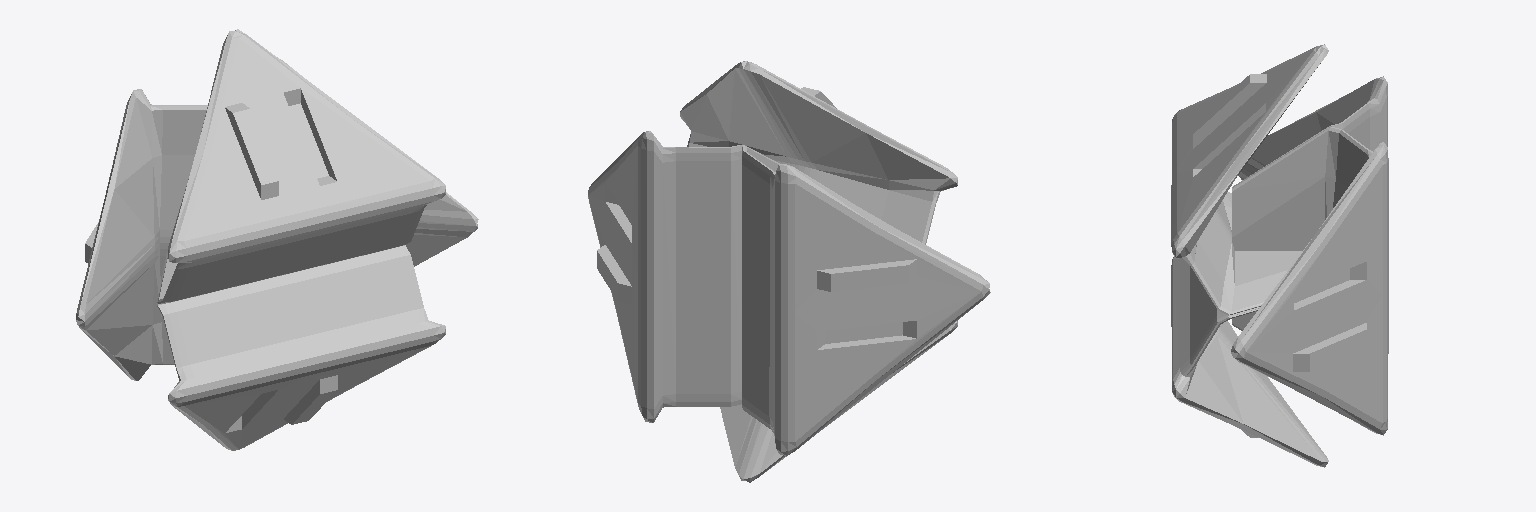
File: Tri2023.obj
3 views of the same model, side by side, from view 1: azimuth 30°, elevation 25°; view 2: azimuth 150°, elevation 25°; view 3: azimuth 270°, elevation 25° (orthographic).
Parts seen in each view (by area): view 1: Plane.002, Plane.001_Plane.006; view 2: Plane.001_Plane.006, Plane.002; view 3: Plane.001_Plane.006, Plane.002.
Boxes of the visible parts, <box> form: Plane.002: <box>157,29,445,450</box>; Plane.001_Plane.006: <box>76,57,478,380</box>; Plane.001_Plane.006: <box>588,131,990,455</box>; Plane.002: <box>680,61,957,482</box>; Plane.001_Plane.006: <box>1231,76,1388,435</box>; Plane.002: <box>1171,44,1328,467</box>.
Bounding box in the file's own units: 2.4 × 2.4 × 1.12.